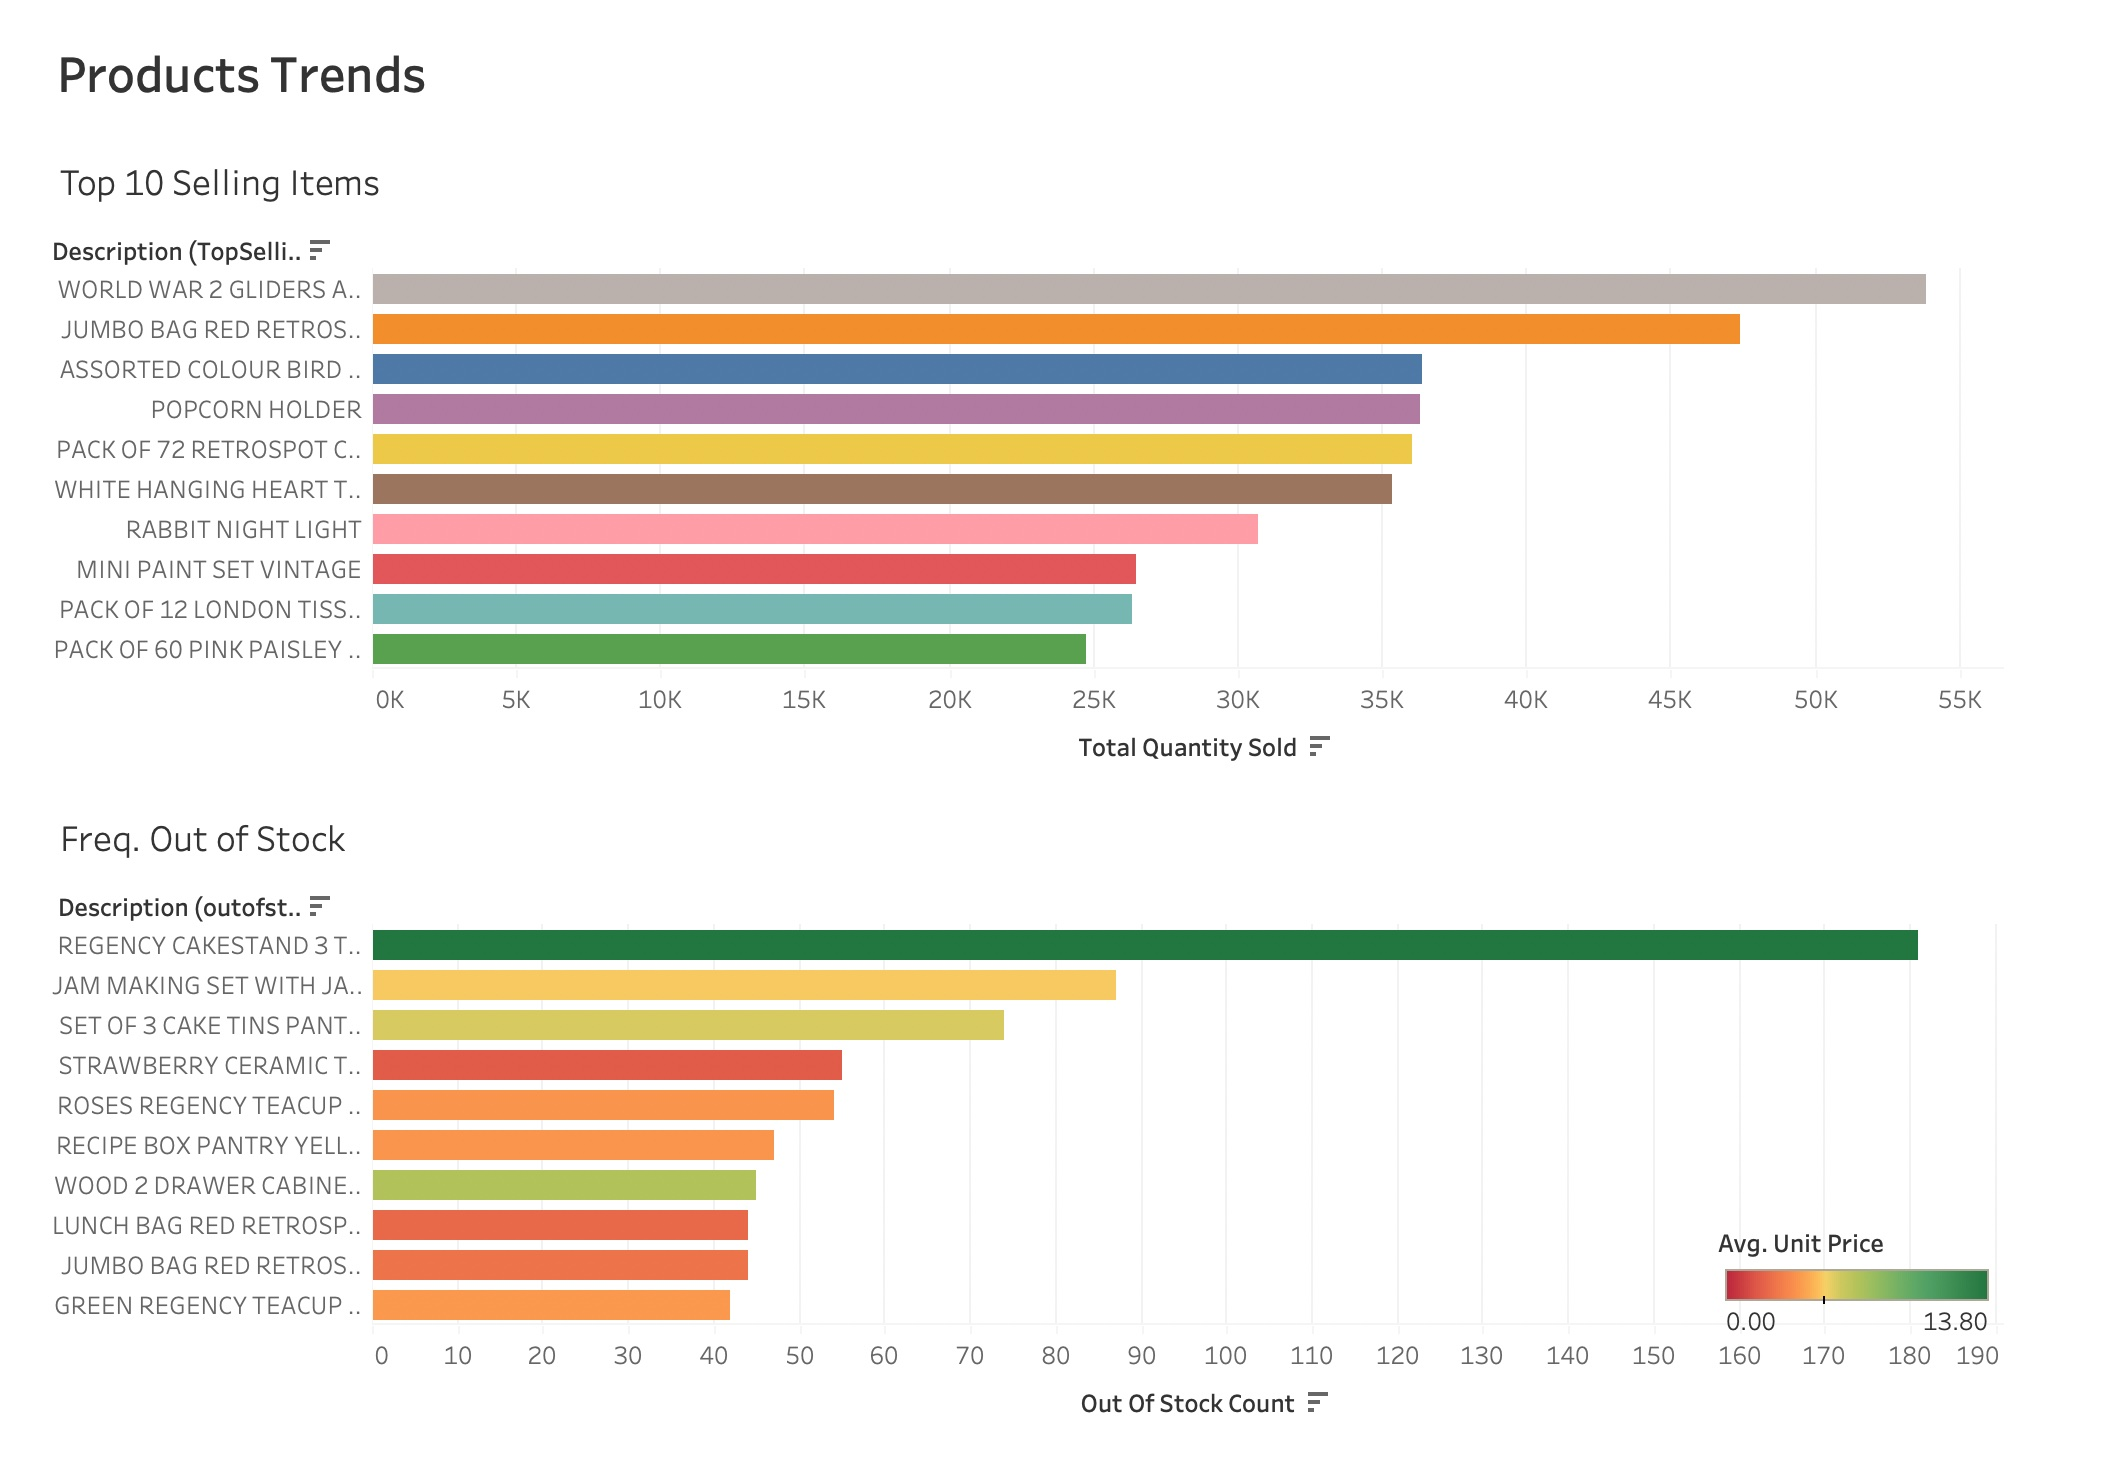

The page's visual inventory and layout, read from the dashboard file:
{"tool":"tableau","page":{"name":"Dashboard 3","canvas":[1000,800],"ordinal":2},"visuals":[{"type":"title","box":[8,8,984,41]},{"type":"worksheet","title":"Sheet 7","mark":"Automatic","rows":["MonthlySales"],"cols":["Month"],"box":[8,49,492,392.3]},{"type":"worksheet","title":"Sheet 10","mark":"Automatic","rows":["SalesGrowthRate"],"cols":["Month (SalesGrowthData)"],"box":[500,49,492,392.3]},{"type":"worksheet","title":"Sheet 13","mark":"Bar","rows":["Date"],"cols":["TotalSales"],"box":[8,441.3,984,350.7]},{"type":"legend","title":"Sheet 13","param":"[federated.0i5ynd00bf3w5w1aq6y280vr25mc].[tmn:Date:qk]","box":[798,656,172,76]}]}

Visuals, with their boxes on the page's 1000x800 design canvas (x1, y1, x2, y2). These are canvas units, not pixel positions in the 2124x1480 screenshot, which may show the page scaled, cropped or inside an application window:
title: pyautogui.locateOnScreen(8, 8, 992, 49)
"Sheet 7" worksheet: pyautogui.locateOnScreen(8, 49, 500, 441)
"Sheet 10" worksheet: pyautogui.locateOnScreen(500, 49, 992, 441)
"Sheet 13" worksheet (Bar marks): pyautogui.locateOnScreen(8, 441, 992, 792)
"Sheet 13" legend: pyautogui.locateOnScreen(798, 656, 970, 732)
